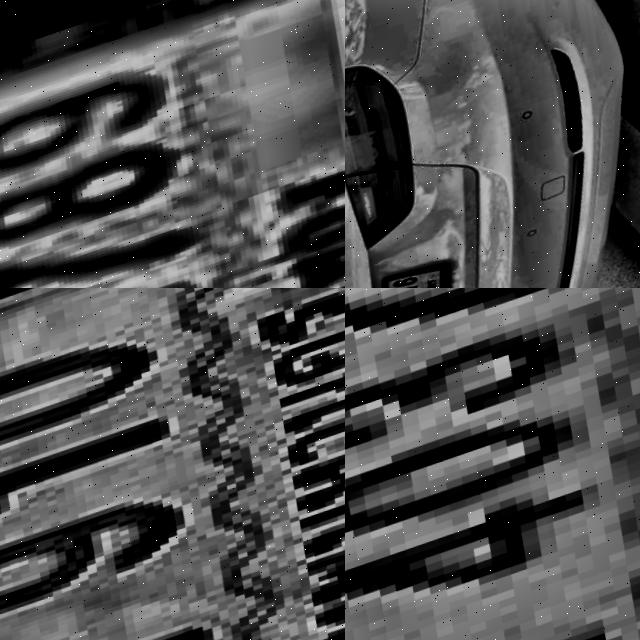license-plate: (0, 288, 345, 640), (345, 288, 640, 640), (0, 0, 345, 288), (379, 262, 472, 288)
